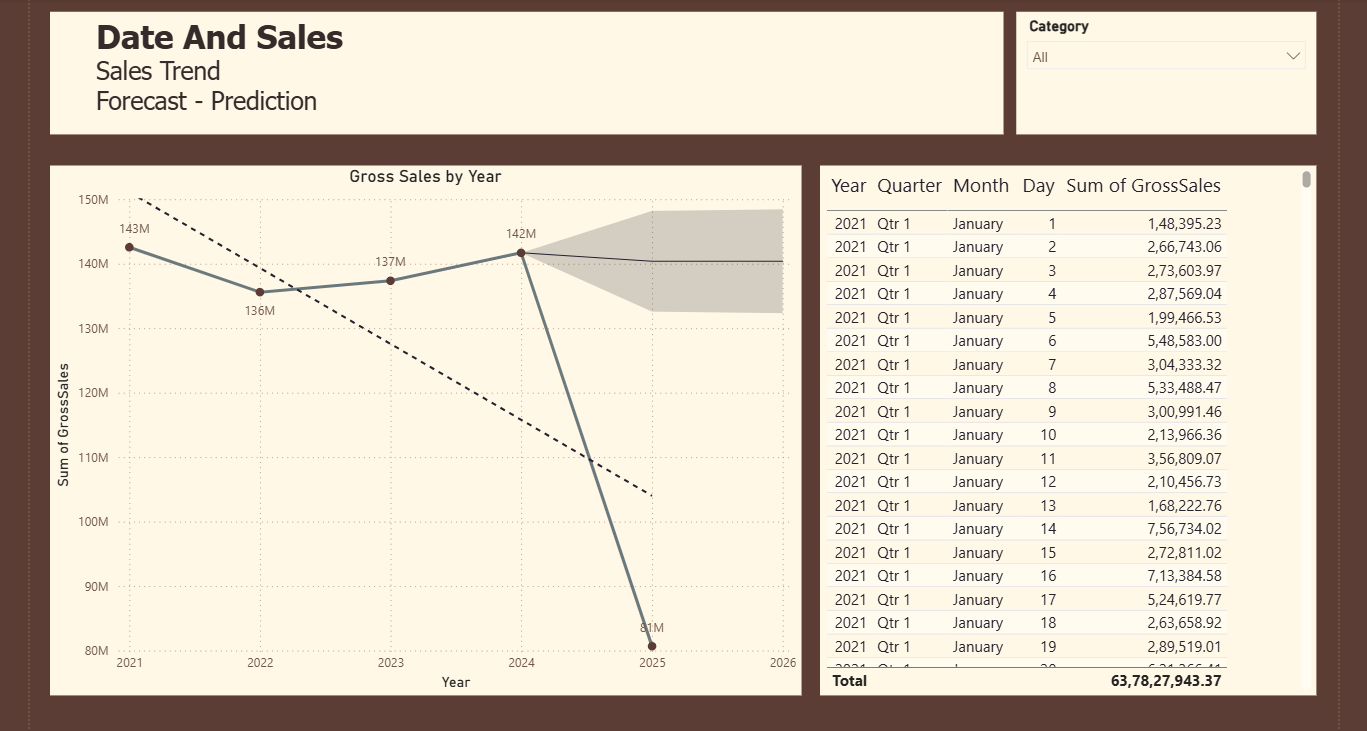

Layout of this report page (visuals, bound fields, positions):
{"tool":"powerbi","page":{"name":"Date Forecasting","canvas":[1280,720],"ordinal":2},"visuals":[{"type":"tableEx","fields":{"Values":["DimDate.Date.Variation.Date Hierarchy.Year","DimDate.Date.Variation.Date Hierarchy.Quarter","DimDate.Date.Variation.Date Hierarchy.Month","DimDate.Date.Variation.Date Hierarchy.Day","Sum(FactSales.GrossSales)"]},"box":[772.8,163.9,485.5,518.5],"z":0},{"type":"lineChart","title":" Gross Sales by Year","fields":{"Category":["DimDate.Date.Variation.Date Hierarchy.Year","DimDate.Date.Variation.Date Hierarchy.Quarter","DimDate.Date.Variation.Date Hierarchy.Month","DimDate.Date.Variation.Date Hierarchy.Day"],"Y":["Sum(FactSales.GrossSales)"]},"box":[19.6,163.9,734.9,518.5],"z":1000},{"type":"textbox","box":[19.6,13.5,933,119.8],"z":2000},{"type":"slicer","fields":{"Values":["DimProduct.Category"]},"box":[964.8,13.5,293.5,119.8],"z":4000}]}

Visuals, with their boxes on the page's 1280x720 design canvas (x1, y1, x2, y2). These are canvas units, not pixel positions in the 1367x731 screenshot, which may show the page scaled, cropped or inside an application window:
tableEx - DimDate.Date.Variation.Date Hierarchy.Year x DimDate.Date.Variation.Date Hierarchy.Quarter: region(773, 164, 1258, 682)
" Gross Sales by Year" lineChart: region(20, 164, 754, 682)
textbox: region(20, 14, 953, 133)
slicer - DimProduct.Category: region(965, 14, 1258, 133)
